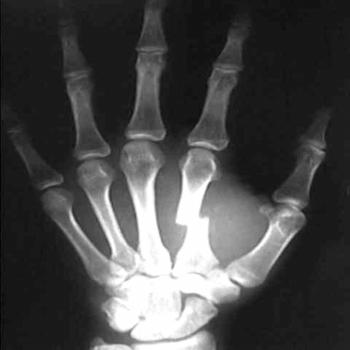Fracture: (170, 211, 217, 231)
